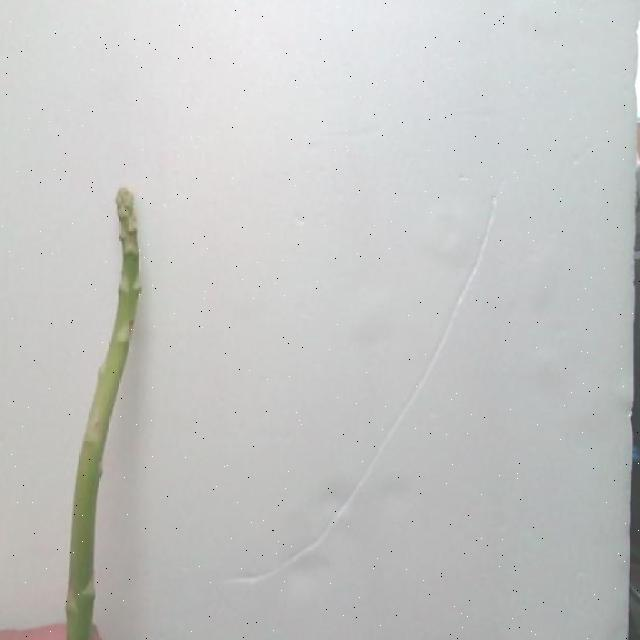aspargus: (65, 190, 143, 640)
